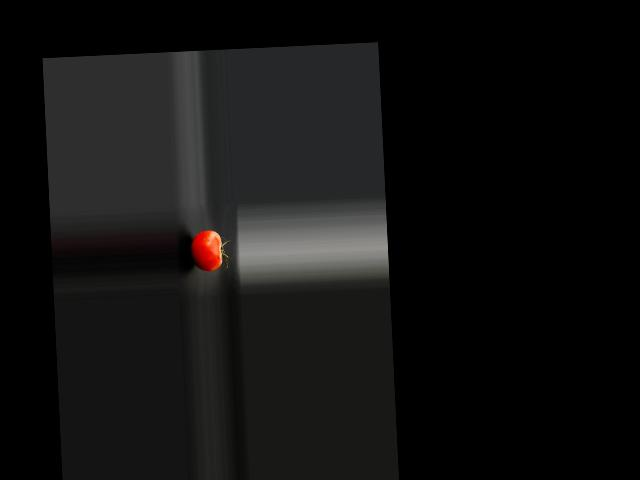tomato: (190, 229, 222, 271)
